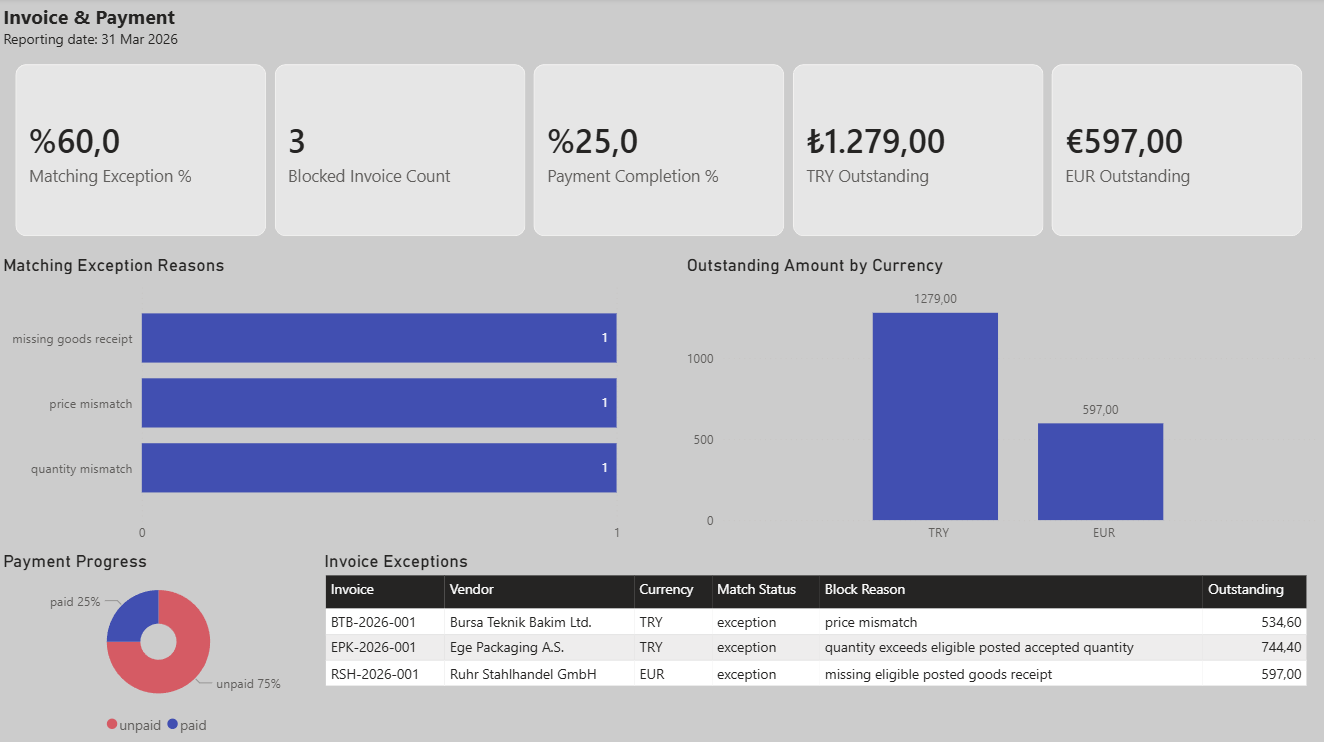

The dashboard page shown, as its layout file describes it:
{"tool":"powerbi","page":{"name":"Invoice & Payment","canvas":[1280,720],"ordinal":1},"visuals":[{"type":"cardVisual","fields":{"Data":["invoice_matching.Three-Way Matching Exception %","payment_progress.Blocked Invoice Count","payment_progress.Invoice Payment Completion %","payment_progress.TRY Outstanding","payment_progress.EUR Outstanding"]},"box":[0,46.7,1280.3,200.3],"z":0},{"type":"clusteredBarChart","title":"Matching Exception Reasons","fields":{"Category":["invoice_matching.matching_status"],"Y":["CountNonNull(invoice_matching.invoice_item_id)"]},"box":[0,247,620.2,286.8],"z":1000},{"type":"clusteredColumnChart","title":"Outstanding Amount by Currency","fields":{"Category":["payment_progress.invoice_currency"],"Y":["Sum(payment_progress.outstanding_amount)"]},"box":[660,247,620.2,286.8],"z":2000},{"type":"donutChart","title":"Payment Progress","fields":{"Category":["payment_progress.payment_progress_status"],"Y":["Count(payment_progress.invoice_id)"]},"box":[0,533.8,310.1,186.6],"z":3000},{"type":"tableEx","title":"Invoice Exceptions","fields":{"Values":["payment_progress.invoice_number","payment_progress.vendor_name","payment_progress.invoice_currency","payment_progress.invoice_matching_status","payment_progress.block_reason","Sum(payment_progress.outstanding_amount)"]},"box":[310.1,533.8,970.2,186.6],"z":4000},{"type":"textbox","box":[0,0,292,54],"z":5000}]}

Visuals, with their boxes in screenshot pixels (x1, y1, x2, y2), scaled from the page's 1280x720 canvas onto the 1324x742 screenshot:
cardVisual - invoice_matching.Three-Way Matching Exception % x payment_progress.Blocked Invoice Count: box(0, 48, 1323, 255)
"Matching Exception Reasons" clusteredBarChart: box(0, 255, 642, 550)
"Outstanding Amount by Currency" clusteredColumnChart: box(683, 255, 1323, 550)
"Payment Progress" donutChart: box(0, 550, 321, 741)
"Invoice Exceptions" tableEx: box(321, 550, 1323, 741)
textbox: box(0, 0, 302, 56)
